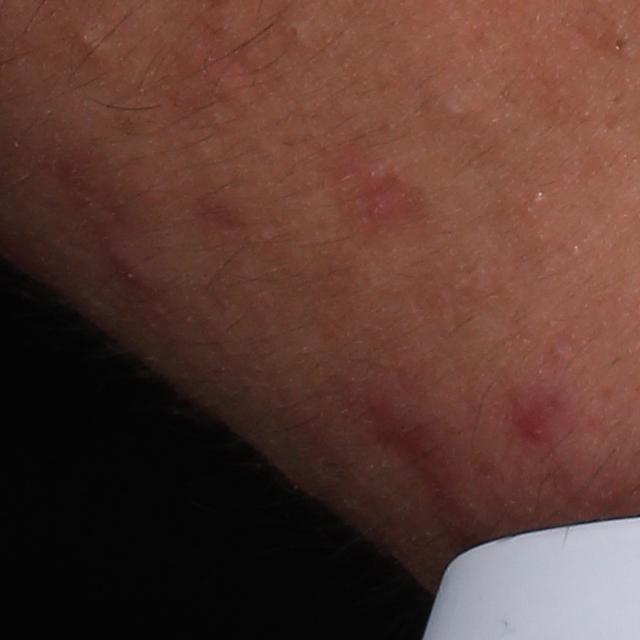comedo: (72, 19, 106, 60), (437, 89, 466, 119), (283, 18, 307, 40)
papule: (502, 373, 579, 445), (107, 244, 159, 290)
